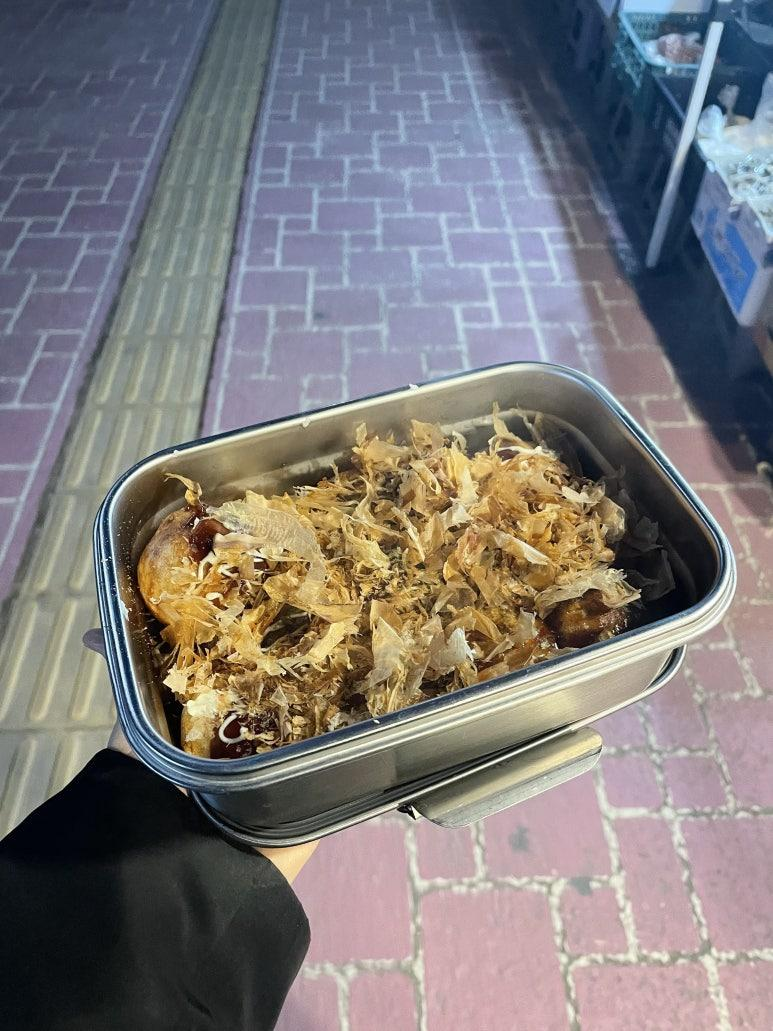Lunch Box: (94, 362, 734, 846)
